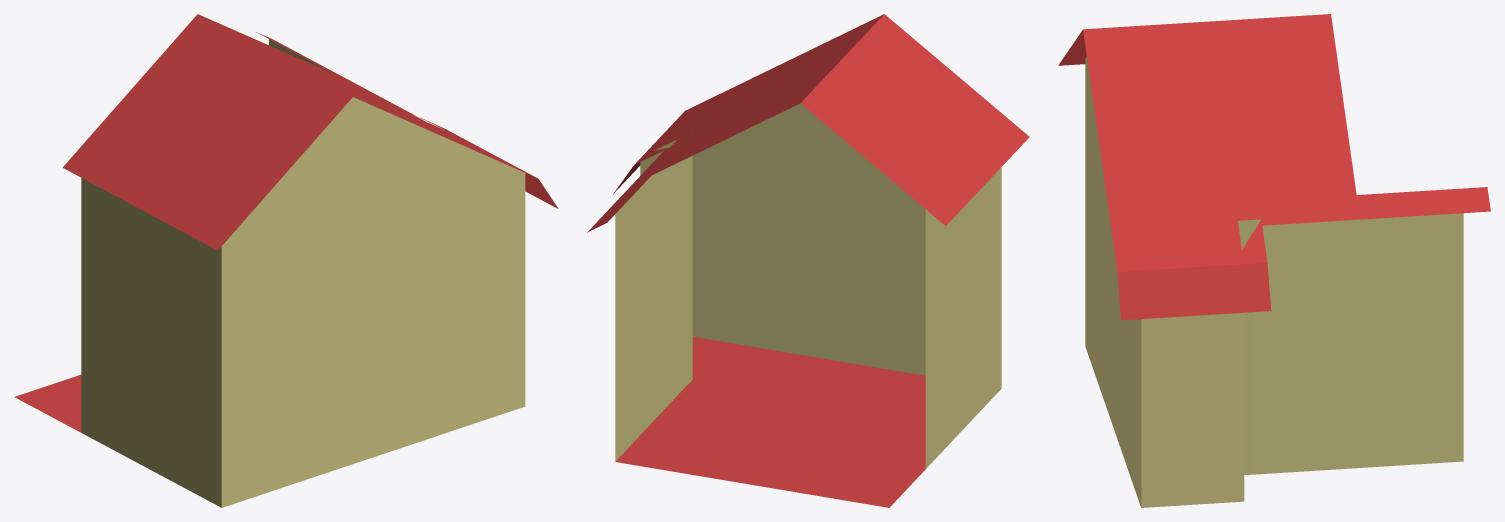
3 views of the same model, side by side, from view 1: azimuth 30°, elevation 25°; view 2: azimuth 150°, elevation 25°; view 3: azimuth 270°, elevation 25° (orthographic). The views are drawn at different scales.
Bounding box in the file's own units: 14.65 × 13.58 × 13.17.
